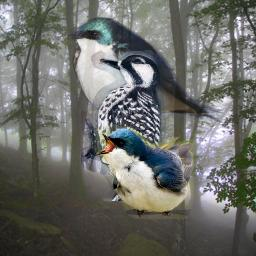Swallow: (66, 15, 224, 123), (94, 125, 194, 219)
Woodpecker: (81, 49, 166, 201)
